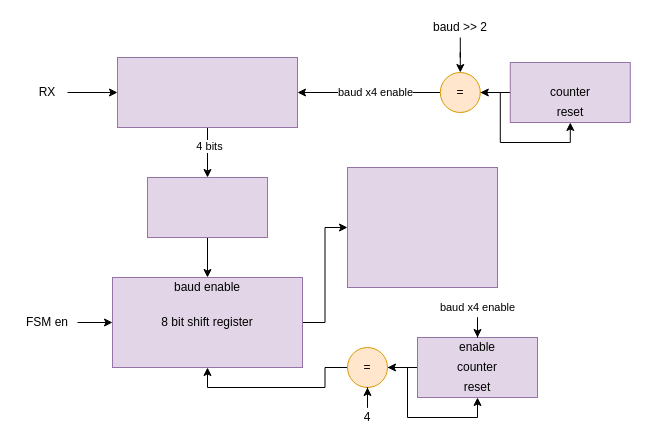
Image size: 648x444. Some labels were removed from this diagram. Each missing label, with the centre of its shape:
"4 bit shift register" goes at [207,92].
"FIFO" goes at [422,227].
"RX decide" goes at [207,207].
